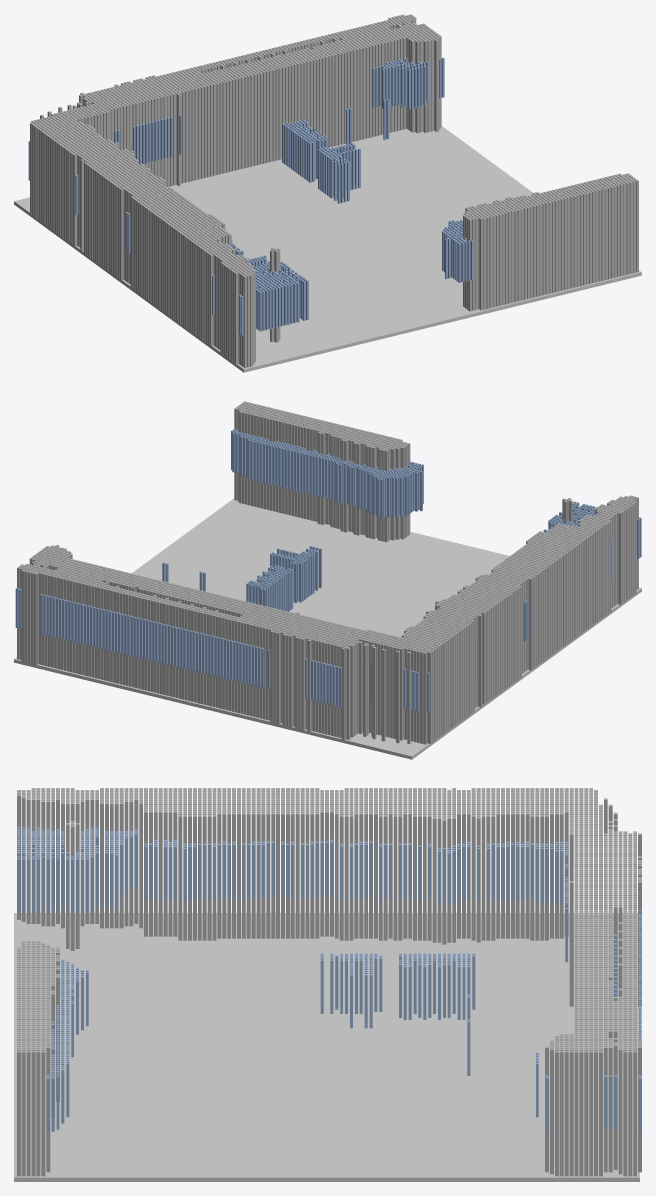
Rendered from 811bc723-eae0-4699-ad5c-992e732a89ce.glb.
3 renders of one model, top to bottom at view 1: azimuth 30°, elevation 25°; view 2: azimuth 150°, elevation 25°; view 3: azimuth 270°, elevation 25°, orthographic. The views are drawn at different scales.
Visible parts, largest first — view 1: world; view 2: world; view 3: world.
Part boxes in pixels (x1,y1,x2,y2): world: [14, 14, 641, 372]; world: [14, 401, 641, 759]; world: [14, 788, 641, 1181].
Bounding box in the file's own units: 12.84 × 2.9 × 12.84.
